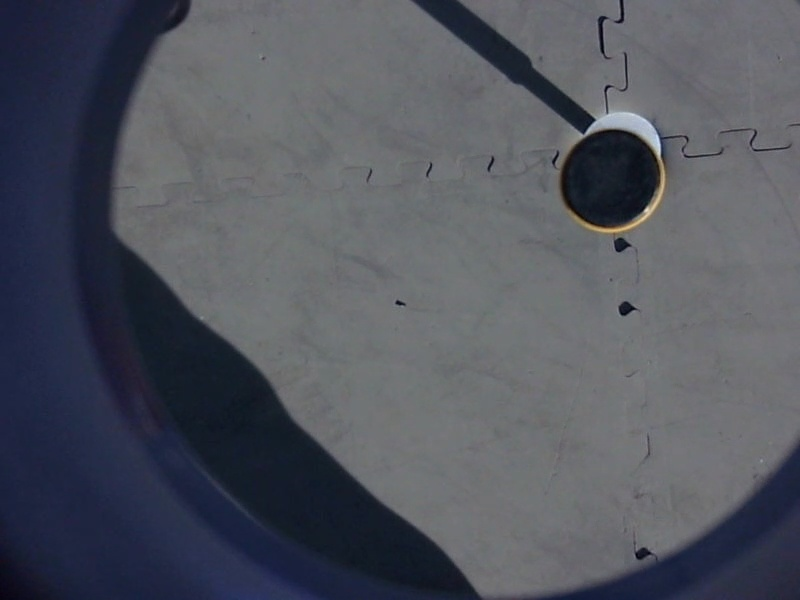tip: (552, 123, 672, 240)
